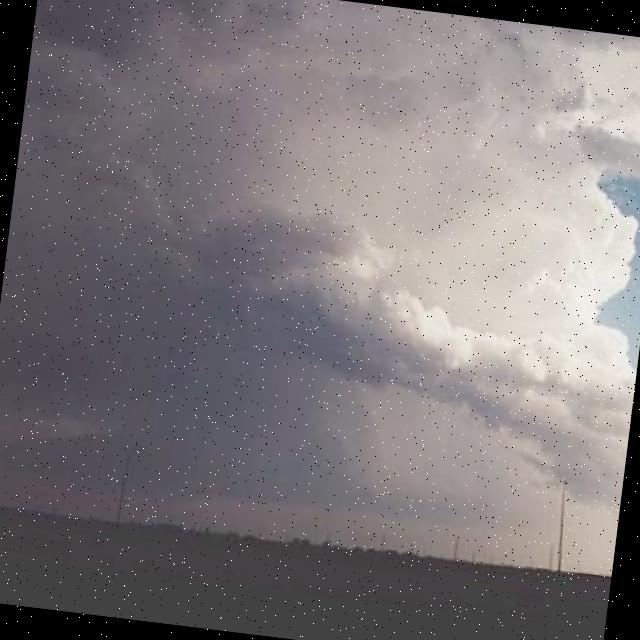Cb: (1, 1, 640, 467)
